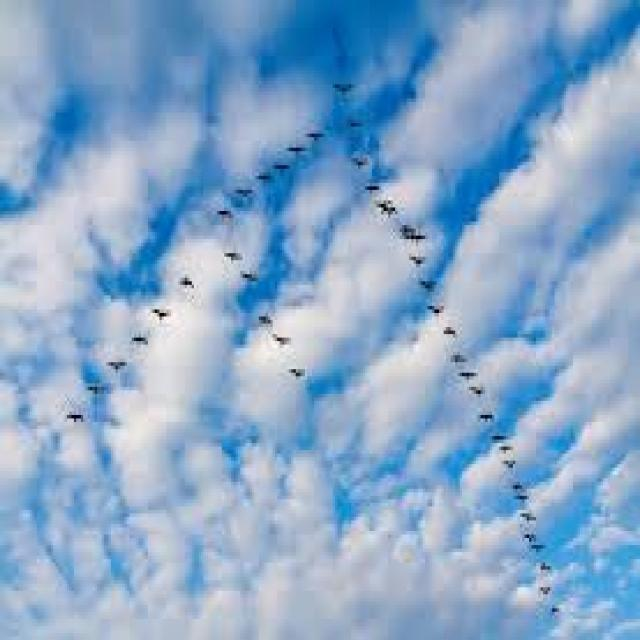bird: (58, 400, 98, 440), (99, 346, 139, 382), (260, 327, 302, 359), (250, 299, 286, 334), (330, 72, 369, 103), (280, 358, 314, 391), (78, 376, 108, 412), (300, 128, 338, 156), (336, 106, 372, 132), (282, 142, 314, 170), (414, 270, 442, 302), (130, 321, 154, 358), (179, 266, 202, 304), (452, 364, 486, 389), (220, 234, 250, 262), (442, 344, 478, 366), (231, 181, 261, 206), (463, 384, 489, 412), (471, 402, 499, 428), (364, 195, 404, 213), (152, 297, 174, 329), (396, 217, 422, 244), (402, 246, 427, 274), (347, 150, 372, 174), (264, 162, 288, 186), (212, 200, 234, 225), (422, 302, 447, 324), (356, 178, 388, 195), (250, 170, 274, 192), (441, 318, 462, 343), (232, 269, 269, 283), (542, 601, 568, 619), (490, 438, 522, 452), (527, 542, 550, 560), (512, 494, 535, 508), (518, 508, 540, 522), (488, 426, 509, 440), (521, 529, 537, 547), (540, 559, 556, 577), (536, 584, 552, 602), (500, 480, 528, 490), (501, 457, 520, 468)
